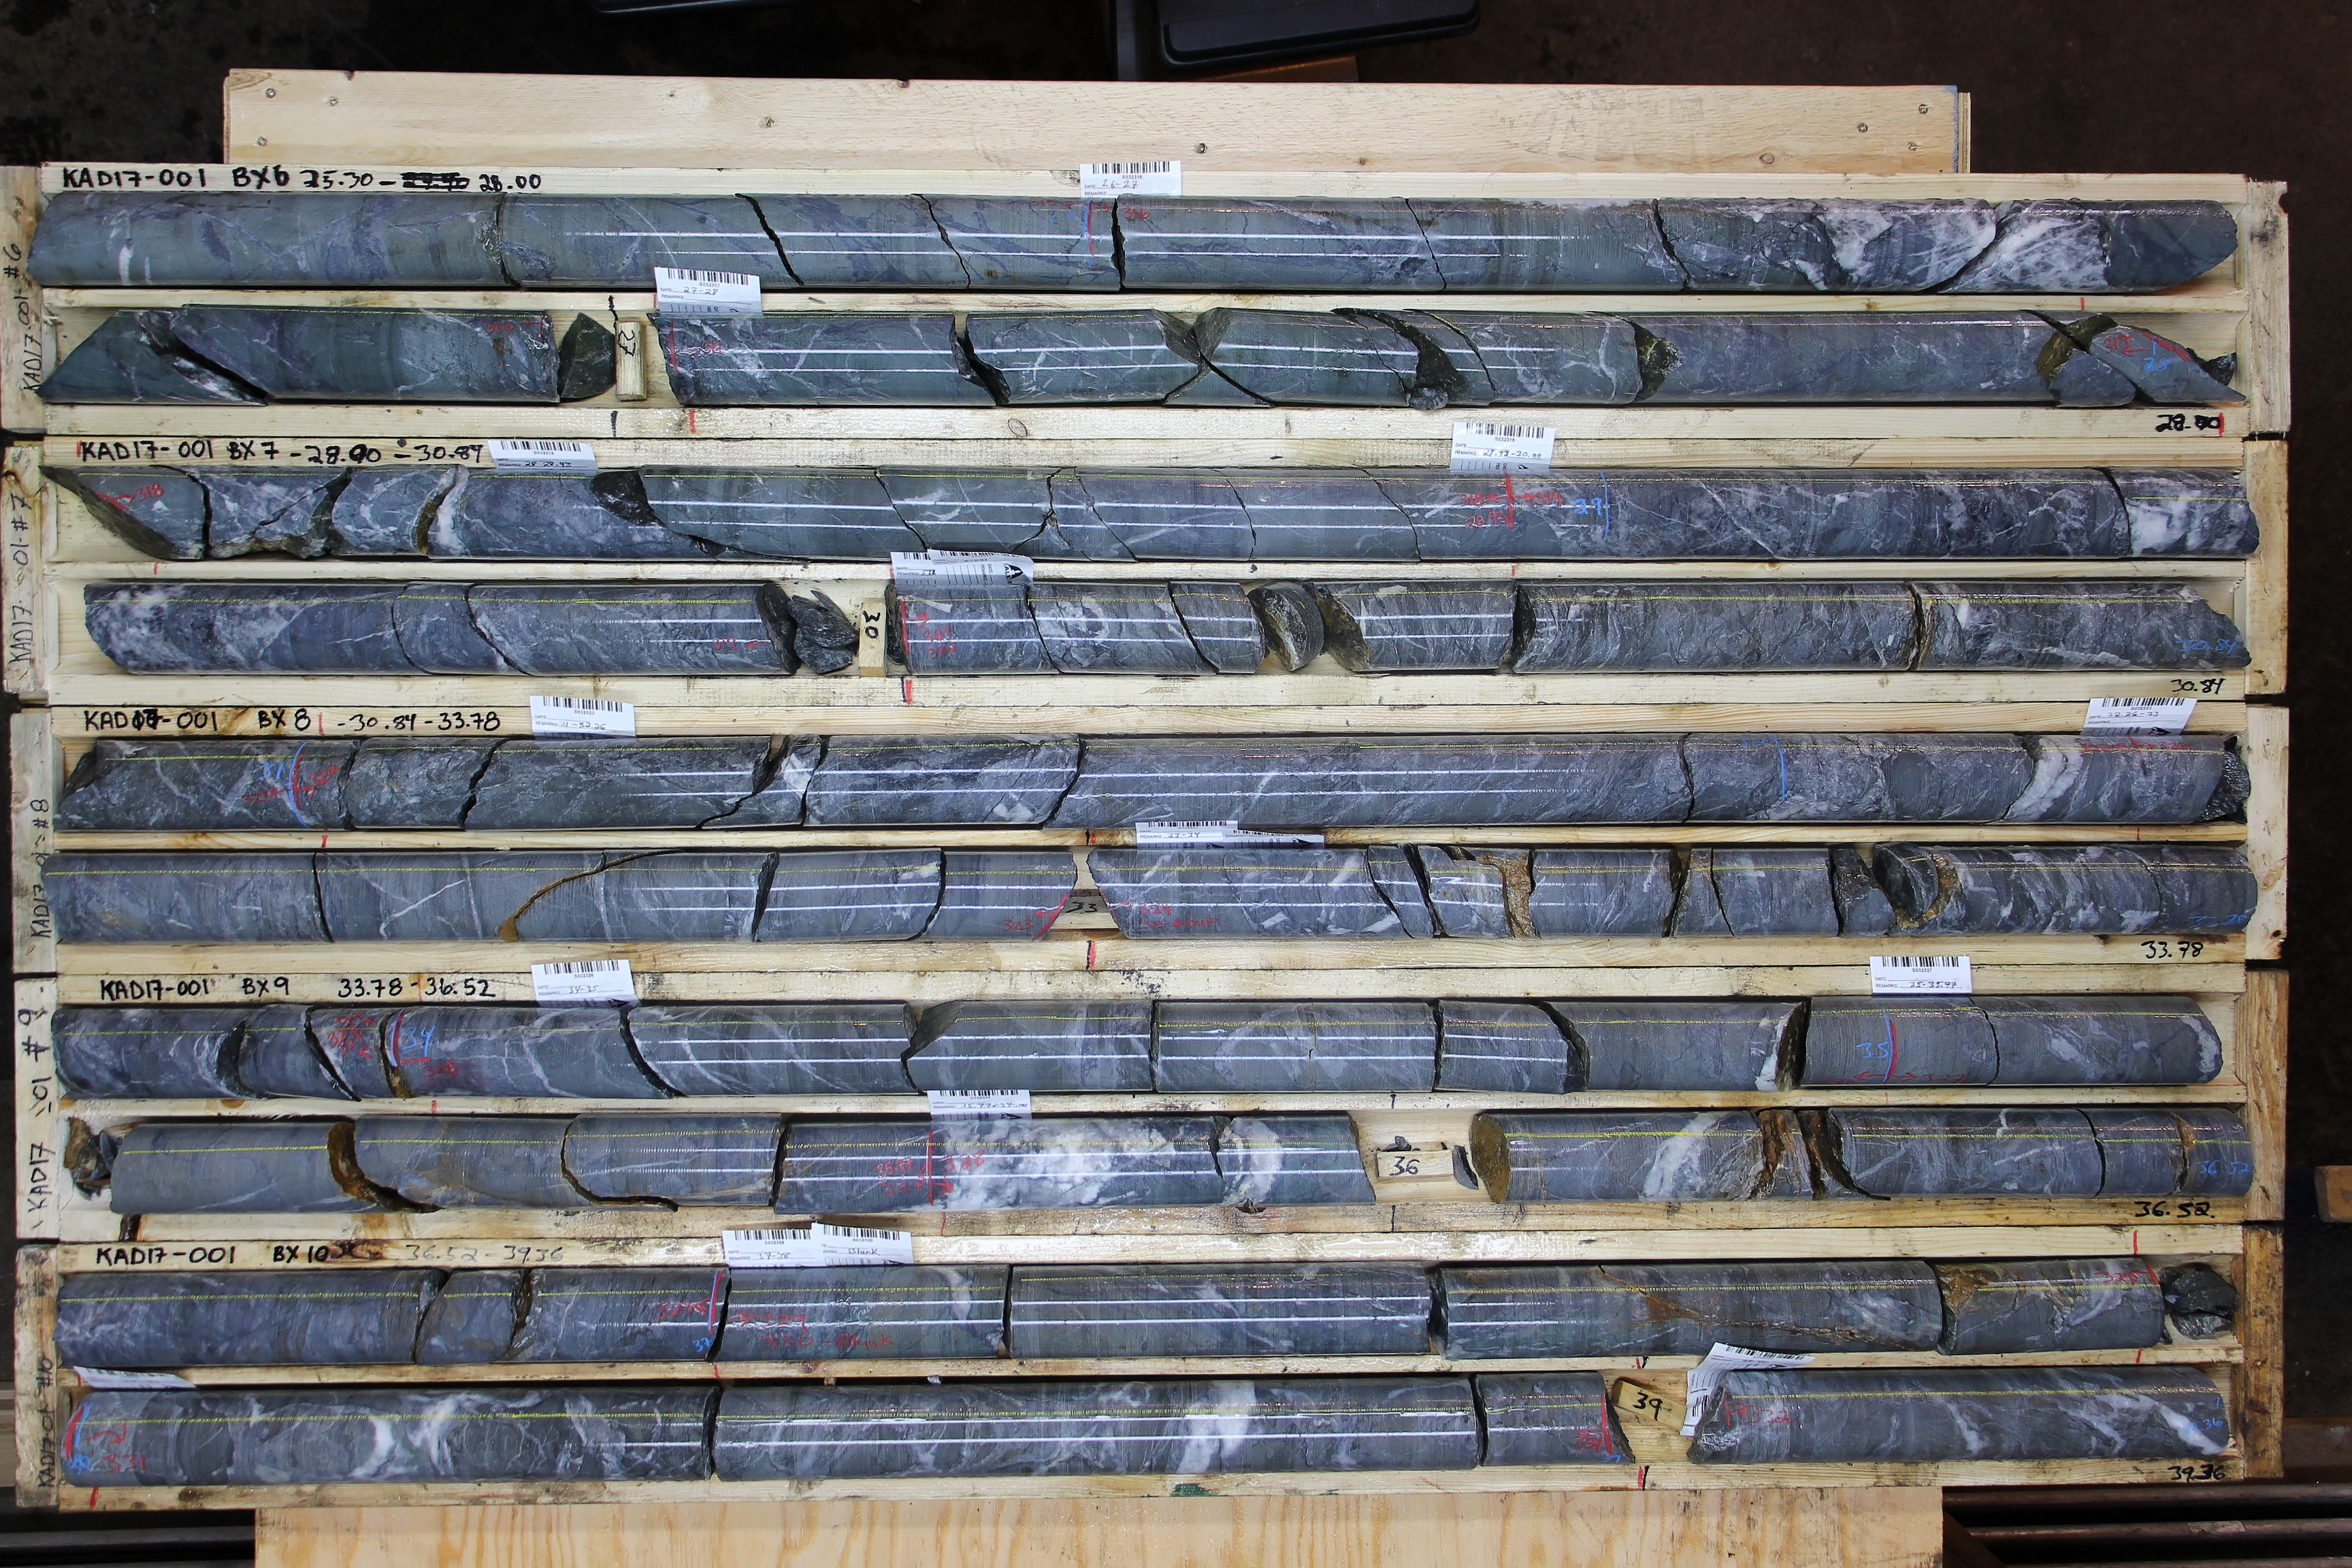rock-KAD17_001-25.30-26: (48, 197, 1090, 291)
rock-KAD17_001-26-26x: (1092, 203, 2235, 295)
rock-KAD17_001-26x-27: (46, 312, 612, 403)
rock-KAD17_001-27-28: (679, 318, 2157, 404)
rock-KAD17_001-28-29: (89, 472, 1605, 557)
rock-KAD17_001-29-29x: (1607, 471, 2247, 561)
rock-KAD17_001-29x-30: (85, 585, 795, 677)
rock-KAD17_001-30-30x: (897, 583, 2229, 672)
rock-KAD17_001-30x-31: (74, 741, 295, 830)
rock-KAD17_001-31-32: (297, 735, 1784, 829)
rock-KAD17_001-32-32x: (1786, 733, 2242, 824)
rock-KAD17_001-32x-33: (54, 849, 1080, 947)
rock-KAD17_001-33-33x: (1093, 847, 2242, 934)
rock-KAD17_001-33x-34: (54, 1009, 399, 1097)
rock-KAD17_001-35-35: (399, 998, 1884, 1091)
rock-KAD17_001-35-35x: (1886, 1000, 2224, 1088)
rock-KAD17_001-35x-36: (105, 1107, 1376, 1215)
rock-KAD17_001-36-36x: (1481, 1107, 2247, 1196)
rock-KAD17_001-36x-37: (63, 1271, 706, 1367)
rock-KAD17_001-37-38: (708, 1256, 2150, 1359)
rock-KAD17_001-38-39: (76, 1375, 1613, 1480)
rock-KAD17_001-39-39.36: (1697, 1369, 2221, 1458)
